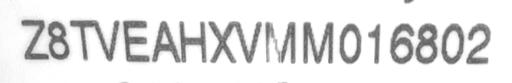letter: (299, 19, 337, 64), (262, 17, 296, 64), (176, 16, 208, 65), (205, 17, 237, 66), (120, 17, 152, 64), (386, 18, 416, 65), (150, 18, 180, 63), (92, 16, 120, 63), (19, 17, 49, 60), (234, 18, 262, 63), (439, 19, 465, 66), (69, 18, 95, 63), (466, 20, 492, 65), (414, 21, 440, 66), (44, 19, 70, 62), (338, 22, 362, 65), (366, 20, 382, 65)
